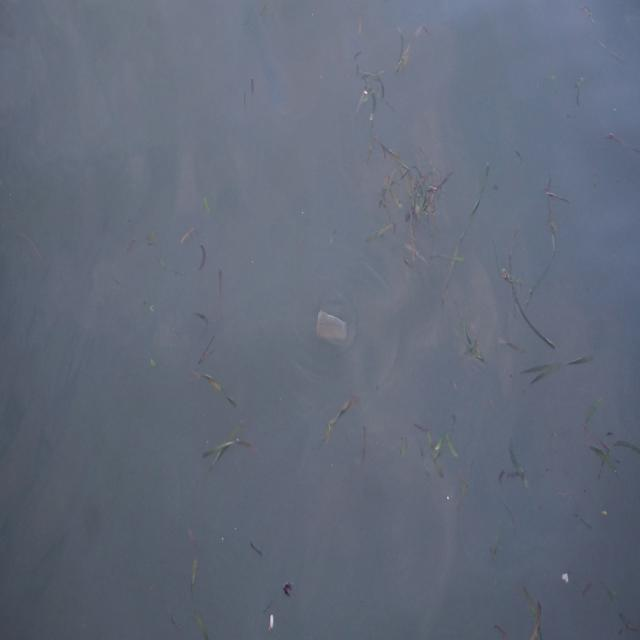Bungkus Minuman: (313, 306, 352, 346)
